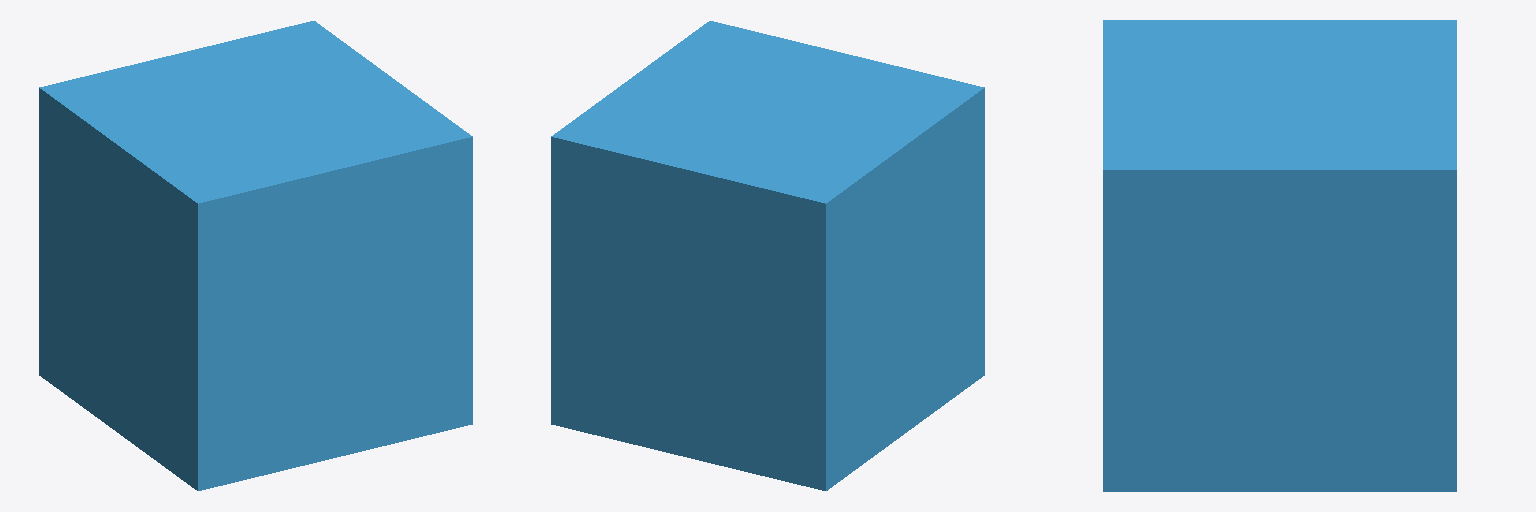
URDF robot description (head_model):
<robot name="head_model">
  <link name="head_link">
    <inertial>
      <mass value="1.0"/>
      <origin xyz="0 0 0"/>
      <inertia ixx="0.0001" iyy="0.0001" izz="0.0001" ixy="0.0" ixz="0.0" iyz="0.0"/>
    </inertial>

    <visual>
      <origin xyz="0 0 0" rpy="-1.5708 0 0"/>
      <geometry>
        <mesh filename="[local-path]/vr_pc_ws/src/gazebo_sim/meshes/head.stl" scale="0.0001 0.0001 0.0001"/>
      </geometry>
    </visual>

    <collision>
      <origin xyz="0 0 0" rpy="-1.5708 0 0"/>
      <geometry>
        <box size="0.001 0.001 0.001"/>
      </geometry>
    </collision>
  </link>

  <gazebo reference="head_link">
    <gravity>false</gravity>
    <material>Gazebo/Blue</material>
  </gazebo>

  <!-- Camera link (child of head_link) -->
  <link name="camera_link">
    <visual>
      <origin xyz="0 0 0" rpy="0 0 0"/> <!-- Position above the head -->
      <geometry>
        <box size="0.001 0.001 0.001"/>
      </geometry>
    </visual>
  </link>

  <joint name="head_to_camera" type="fixed">
    <parent link="head_link"/>
    <child link="camera_link"/>
    <origin xyz="0.1 0.2 -0.2" rpy="3.1416 0 1.5708"/> <!-- Adjust this for correct positioning -->
  </joint>

  <!-- Gazebo camera sensor -->
  <gazebo reference="camera_link">
    <sensor name="head_camera" type="camera">
      <pose>0 0 0 3.1416 0 1.5708</pose> 
      <camera>
        <horizontal_fov>1.047</horizontal_fov>
        <image>
          <width>640</width>
          <height>480</height>
          <format>R8G8B8</format>
        </image>
        <clip>
          <near>0.1</near>
          <far>100</far>
        </clip>
      </camera>
      <always_on>true</always_on>
      <update_rate>30.0</update_rate>
      <visualize>true</visualize>
      <!-- ROS Interface -->
      <plugin name="gazebo_ros_camera" filename="libgazebo_ros_camera.so">
        <cameraName>head_camera</cameraName>
        <imageTopicName>image_raw</imageTopicName>
        <cameraInfoTopicName>camera_info</cameraInfoTopicName>
        <frameName>camera_link</frameName>
      </plugin>

    </sensor>
  </gazebo>
</robot>

--- What the picture shows (computed from the rendered views, not written in the file) ---
The picture shows the robot from 3 angles, left to right: view 1: azimuth 30°, elevation 25°; view 2: azimuth 150°, elevation 25°; view 3: azimuth 270°, elevation 25°; orthographic projection.
Robot: head_model — 2 links, 1 joints (1 fixed); root link head_link; default pose: every joint at zero.
Links seen in each view (by area): view 1: camera_link; view 2: camera_link; view 3: camera_link.
Link boxes in pixels (x1=…): camera_link: x1=39, y1=21, x2=472, y2=490; camera_link: x1=551, y1=21, x2=984, y2=490; camera_link: x1=1103, y1=20, x2=1456, y2=491.
Bounding box of the posed robot: 0.001 × 0.001 × 0.001 m (x, y, z).
Geometry: only primitive shapes (box / cylinder / sphere) drawn; not drawn: 1 mesh visual (reference in a form the renderer does not follow).